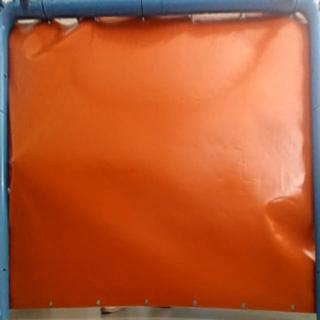Hit-hRxx: (6, 151, 17, 167)
